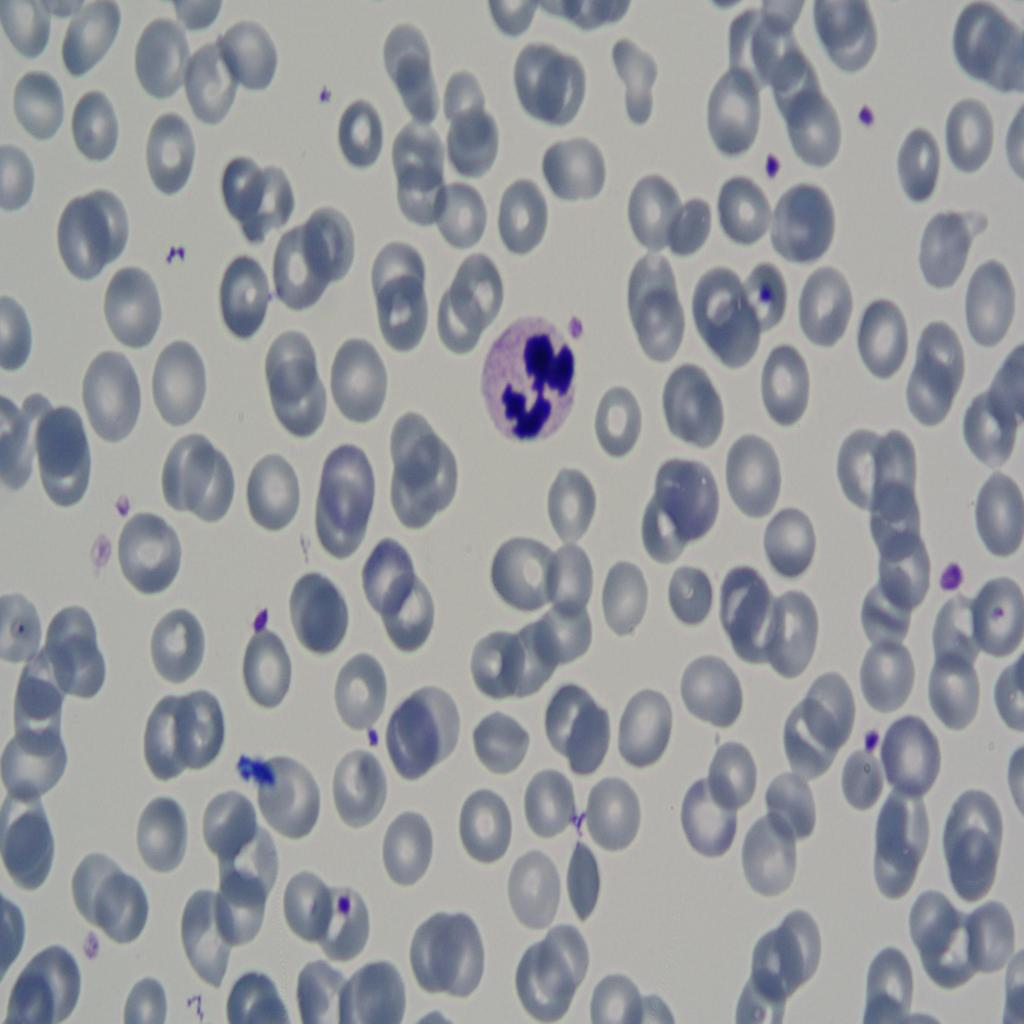Neutrofil: (484, 319, 579, 450)
Platelet: (74, 924, 117, 975), (238, 602, 281, 648), (934, 554, 970, 600), (848, 93, 876, 150), (89, 529, 120, 578), (362, 718, 396, 756), (753, 142, 784, 183), (242, 755, 274, 794), (109, 475, 136, 521), (327, 888, 362, 919), (862, 708, 886, 752), (317, 82, 342, 120), (160, 234, 186, 268), (568, 310, 590, 342), (758, 278, 776, 316)
